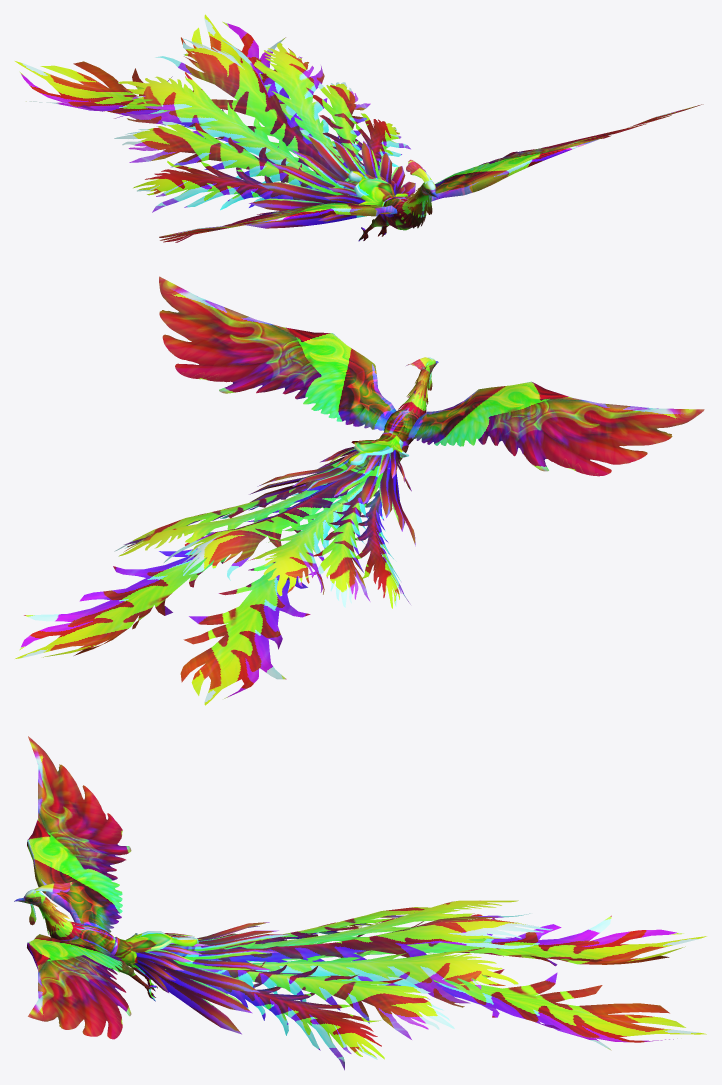
The model's file is fenghuang5.obj.
3 renders of one model, top to bottom at view 1: azimuth 30°, elevation 25°; view 2: azimuth 150°, elevation 25°; view 3: azimuth 270°, elevation 25°, orthographic. The views are drawn at different scales.
Parts seen in each view (by area): view 1: Object03, weiba, chiban, Object04, Object02, zhongjian, Object01; view 2: chiban, weiba, Object03, Object04, zhongjian, Object02, Object01; view 3: chiban, weiba, Object04, Object01, Object03, zhongjian, Object02.
Part boxes in pixels (x1,y1,x2,y2): Object03: (114, 72, 330, 212); weiba: (15, 14, 347, 182); chiban: (159, 104, 703, 242); Object04: (247, 43, 410, 173); Object02: (245, 150, 366, 228); zhongjian: (307, 134, 409, 221); Object01: (334, 140, 415, 196); chiban: (159, 276, 704, 476); weiba: (15, 455, 371, 705); Object03: (248, 468, 410, 608); Object04: (114, 477, 327, 556); zhongjian: (307, 432, 411, 491); Object02: (334, 456, 415, 546); Object01: (249, 453, 358, 502); chiban: (14, 736, 157, 1039); weiba: (192, 913, 706, 1050); Object04: (165, 947, 518, 1070); Object01: (133, 949, 277, 1034); Object03: (222, 900, 518, 949); zhongjian: (110, 931, 291, 992); Object02: (168, 922, 278, 945).
Bounding box in the file's own units: 572 × 121 × 592.
3 materials, 3 textured.
